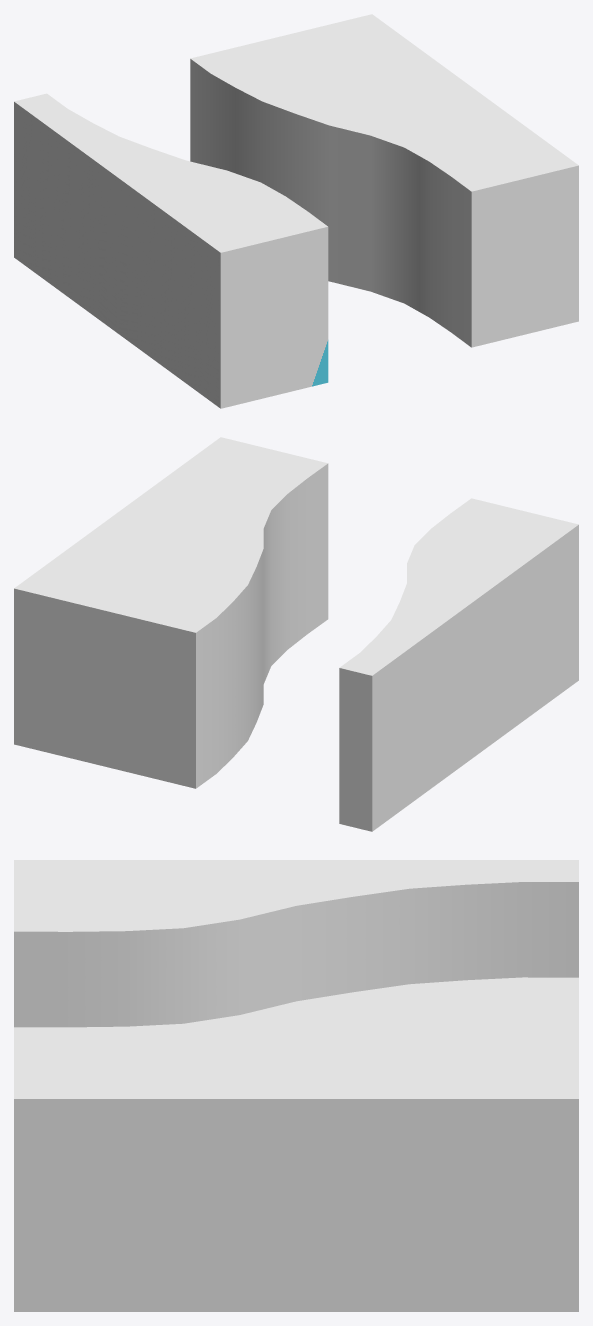
The model's file is invisiblewall1.fbx.
The picture shows the model from 3 angles, top to bottom: view 1: azimuth 30°, elevation 25°; view 2: azimuth 150°, elevation 25°; view 3: azimuth 270°, elevation 25°; orthographic projection. The views are drawn at different scales.
Visible parts, largest first — view 1: pCube1; view 2: pCube1; view 3: pCube1.
Boxes of the visible parts, box(x1,y1,x2,y2) form: pCube1: box(14, 14, 578, 408); pCube1: box(14, 437, 578, 831); pCube1: box(14, 860, 578, 1311).
Size of the model in its own units: 24.03 by 10 by 24.03.
1 material, 1 textured.
